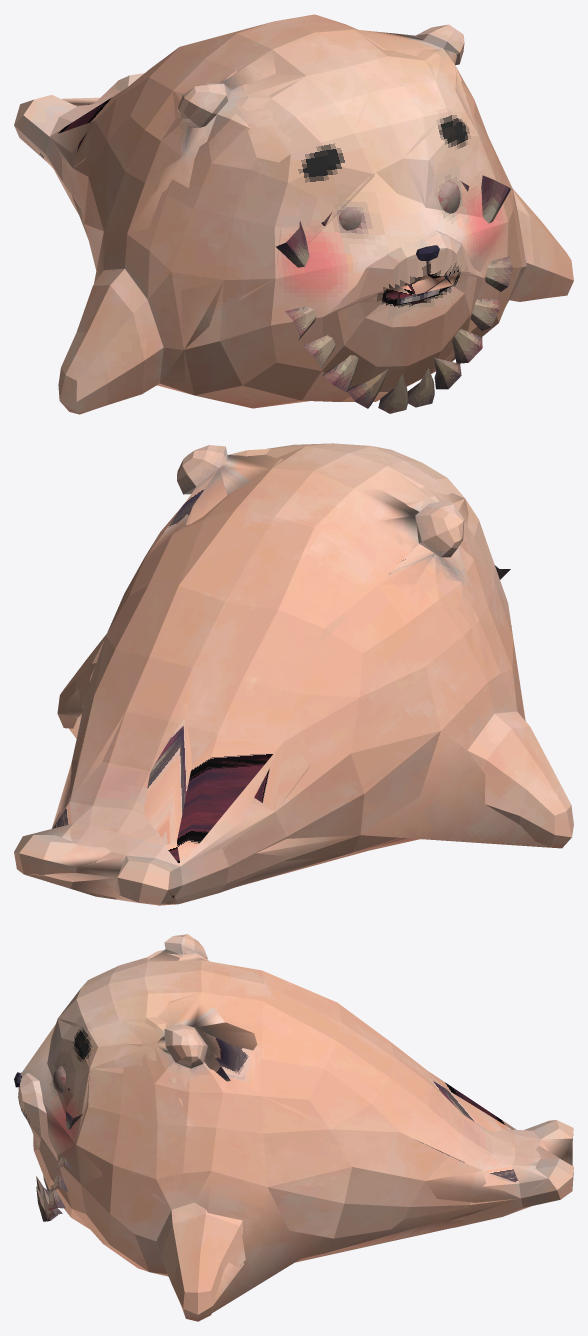
The model's file is item_cutie_dead.glb.
3 renders of one model, top to bottom at view 1: azimuth 30°, elevation 25°; view 2: azimuth 150°, elevation 25°; view 3: azimuth 270°, elevation 25°, orthographic. The views are drawn at different scales.
Visible parts, largest first — view 1: Cutie_Body, Cutie_Teeth, Cutie_Eye_L; view 2: Cutie_Body; view 3: Cutie_Body, Cutie_Teeth.
Part boxes in pixels (x1,y1,x2,y2): Cutie_Body: (14,14,573,414); Cutie_Teeth: (276,175,512,413); Cutie_Eye_L: (438,181,460,213); Cutie_Body: (14,443,573,905); Cutie_Body: (14,934,573,1321); Cutie_Teeth: (36,1088,82,1221).
Size of the model in its own units: 0.6815 by 0.4443 by 0.8042.
2 materials, 2 textured.
